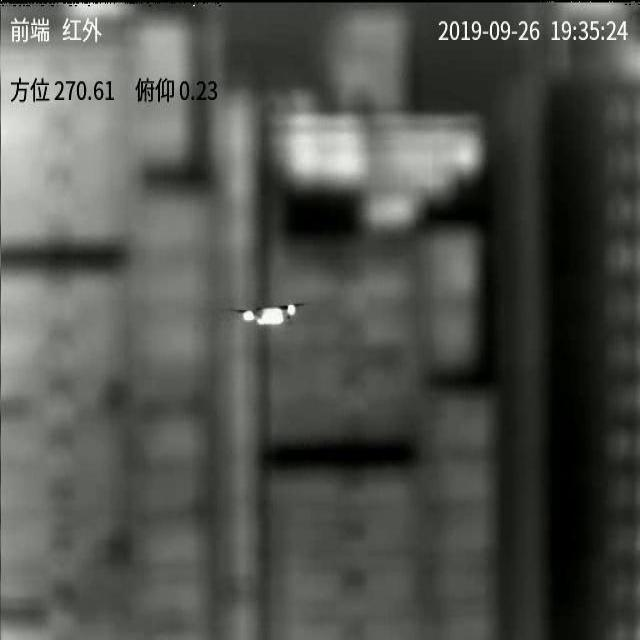drone: (227, 303, 305, 326)
